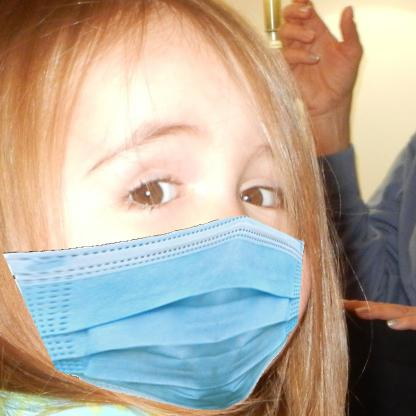Correctly_Masked: (47, 38, 311, 412)
